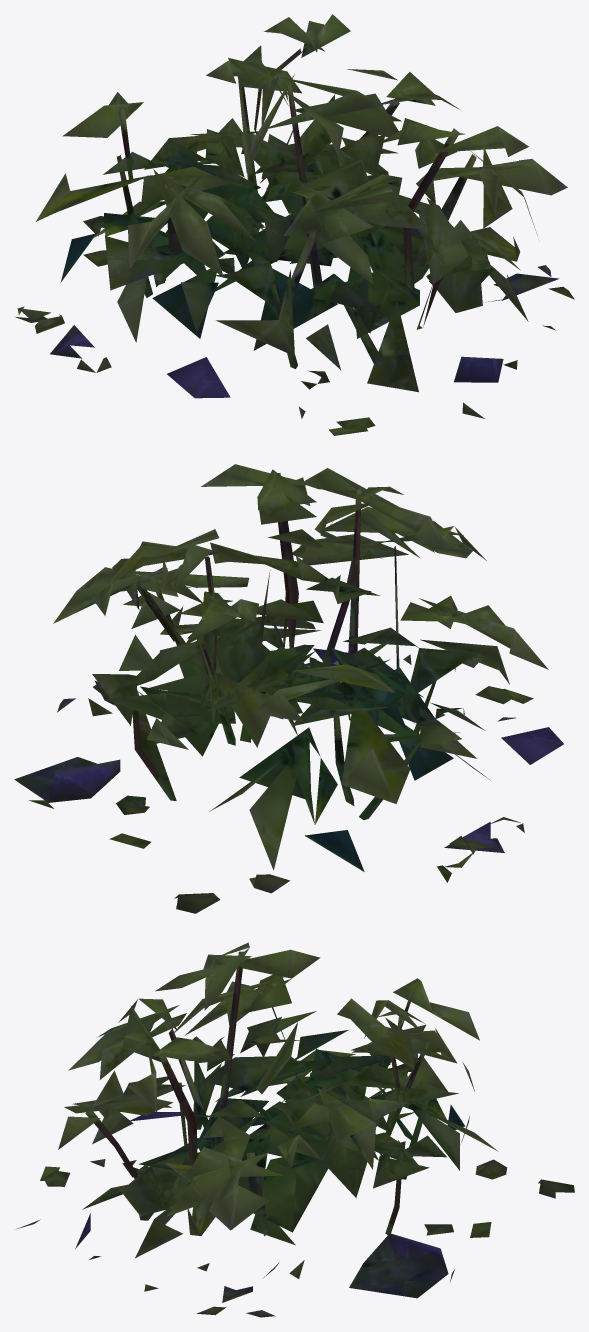
File: bush.glb
The picture shows the model from 3 angles, top to bottom: view 1: azimuth 30°, elevation 25°; view 2: azimuth 150°, elevation 25°; view 3: azimuth 270°, elevation 25°; orthographic projection. The views are drawn at different scales.
Parts seen in each view (by area): view 1: mesh_node; view 2: mesh_node; view 3: mesh_node.
Boxes of the visible parts, bbox=[...] form: mesh_node: bbox=[14, 14, 574, 435]; mesh_node: bbox=[14, 464, 563, 913]; mesh_node: bbox=[16, 942, 574, 1317].
Bounding box in the file's own units: 0.8594 × 0.4766 × 0.9707.
1 material, 1 textured.
